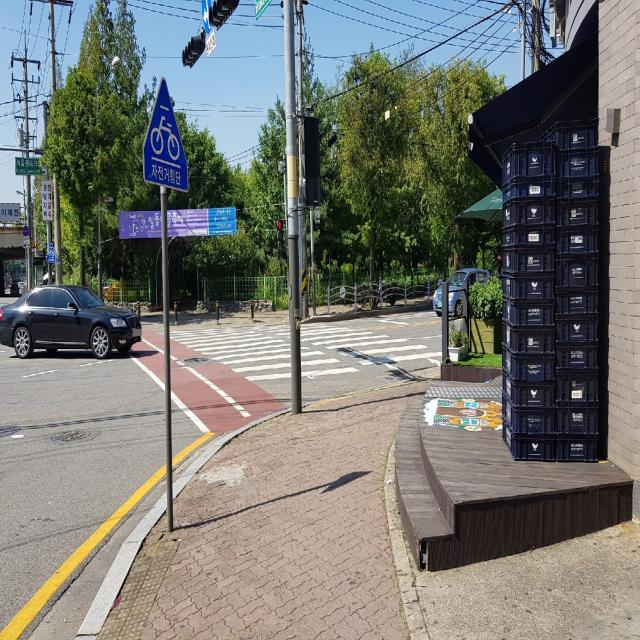빨간불: (278, 221, 282, 252)
횡단보도: (157, 323, 442, 383)
